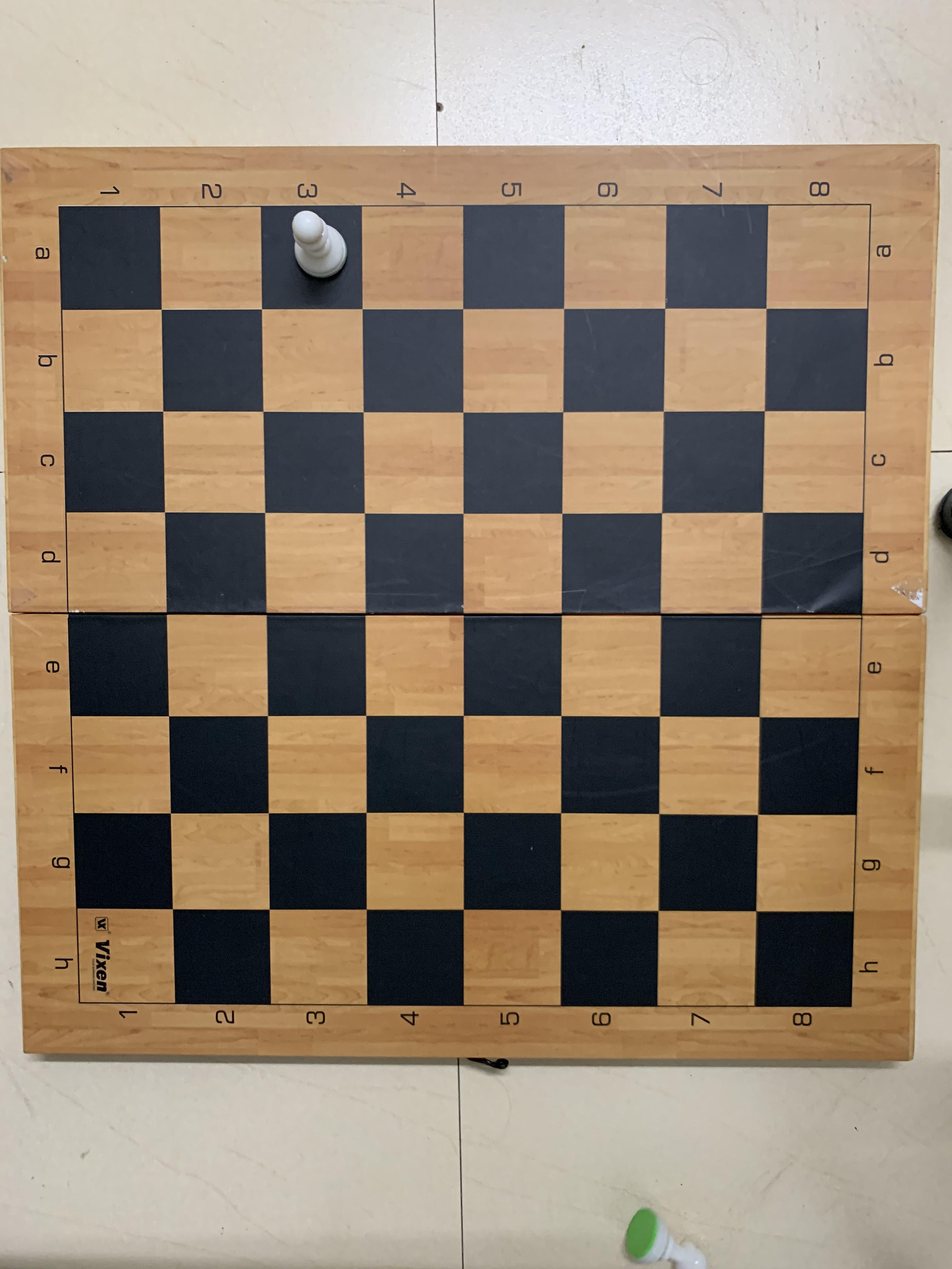white_pawn: (262, 205, 361, 314)
